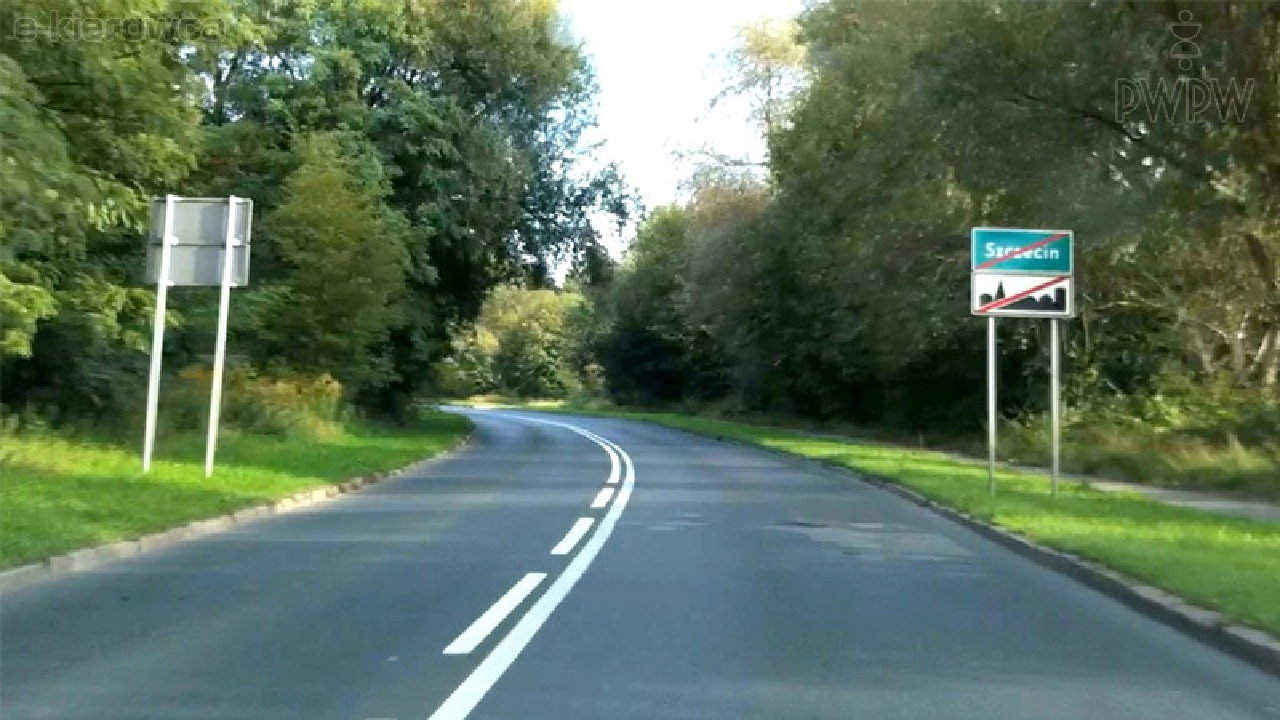D43: (967, 270, 1084, 318)
